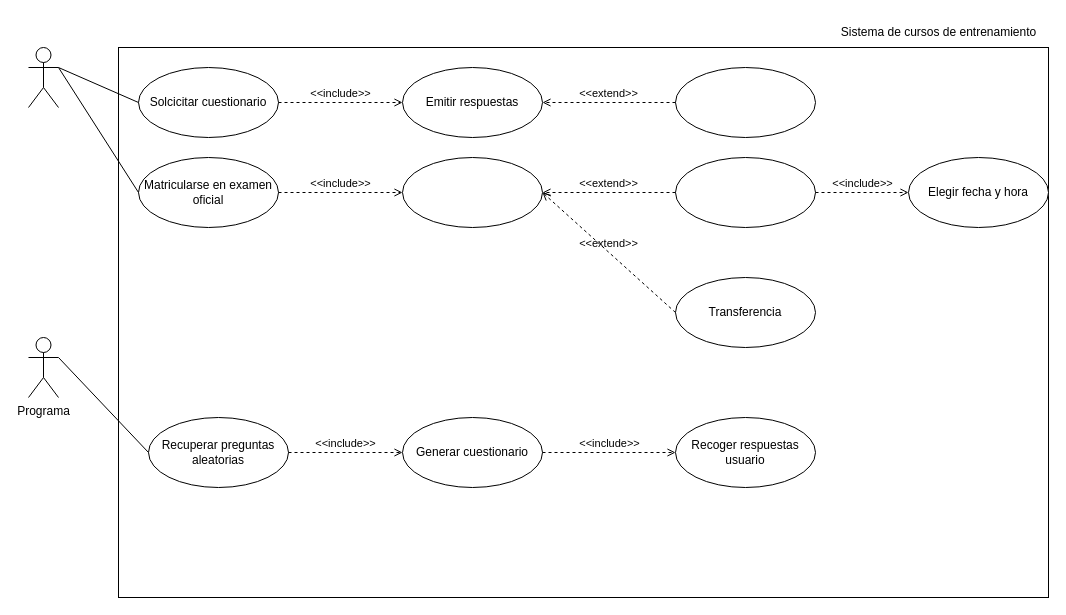
The diagram is 1066 pixels wide and 615 high, and some of its shapes have lost their labels. Each missing label, with the centre of its shape:
"Realizar pago" belongs at [472,192].
"Solicitar resultado" belongs at [745,102].
"Tarjeta" belongs at [745,192].
"Usuario" belongs at [43,77].
